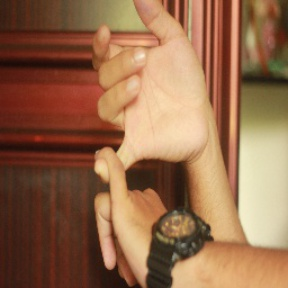S: (83, 2, 206, 287)
